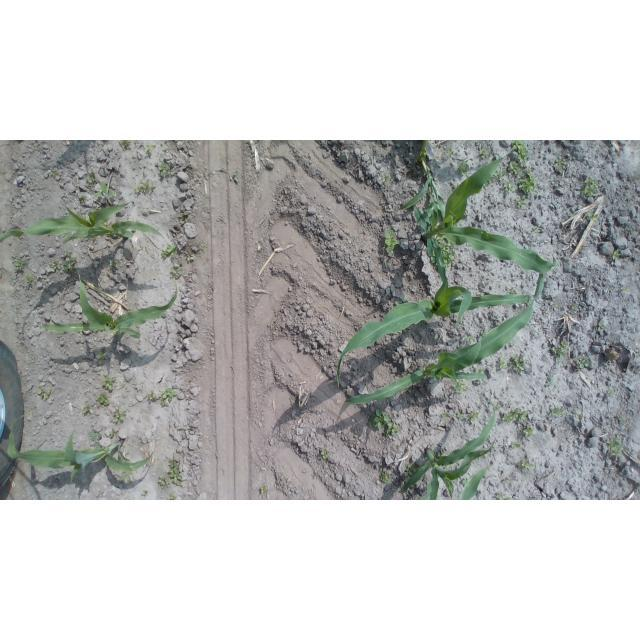Maize: (344, 281, 546, 408), (335, 267, 534, 389), (387, 154, 564, 287), (5, 408, 168, 493), (396, 400, 507, 500), (36, 271, 181, 346), (0, 197, 172, 247)
Weeds: (366, 411, 398, 440), (430, 240, 457, 270), (14, 257, 38, 288), (146, 388, 182, 407), (498, 353, 531, 373), (437, 409, 480, 423), (168, 456, 185, 489), (379, 227, 400, 253), (582, 173, 601, 201), (509, 140, 531, 164), (448, 378, 475, 396), (519, 170, 537, 196), (402, 463, 425, 482), (551, 153, 569, 177), (62, 250, 79, 275), (156, 160, 177, 180), (573, 350, 593, 371), (501, 408, 532, 421), (119, 468, 138, 488), (133, 181, 157, 196), (503, 157, 521, 177), (549, 337, 567, 357), (157, 241, 179, 257), (101, 375, 120, 393), (98, 185, 118, 202), (606, 438, 623, 458), (35, 385, 55, 401), (91, 348, 112, 363), (550, 407, 571, 421), (106, 256, 123, 273), (456, 161, 473, 178), (87, 429, 106, 443), (191, 242, 207, 258), (169, 264, 184, 281), (518, 458, 535, 473), (109, 411, 127, 425), (49, 258, 63, 275), (229, 169, 243, 186), (501, 179, 518, 193), (154, 477, 172, 490), (178, 210, 194, 224), (608, 247, 622, 263), (494, 489, 515, 499), (77, 192, 93, 205), (588, 212, 601, 228), (379, 172, 393, 186), (514, 195, 528, 209), (507, 439, 523, 451), (595, 320, 607, 336), (83, 171, 102, 181), (99, 394, 113, 407), (48, 168, 63, 180), (377, 469, 389, 484), (517, 424, 532, 436), (182, 250, 194, 263), (143, 144, 155, 156), (477, 146, 488, 159), (321, 449, 332, 462), (259, 485, 272, 496), (569, 301, 581, 312), (108, 429, 120, 440), (505, 288, 519, 297), (216, 214, 227, 225), (83, 405, 94, 416), (615, 412, 626, 422), (121, 141, 133, 150), (168, 492, 181, 500), (466, 334, 477, 343), (619, 285, 628, 296), (140, 490, 152, 498), (605, 389, 615, 398), (575, 413, 585, 422), (552, 300, 561, 309), (532, 224, 541, 233), (353, 433, 359, 444)
